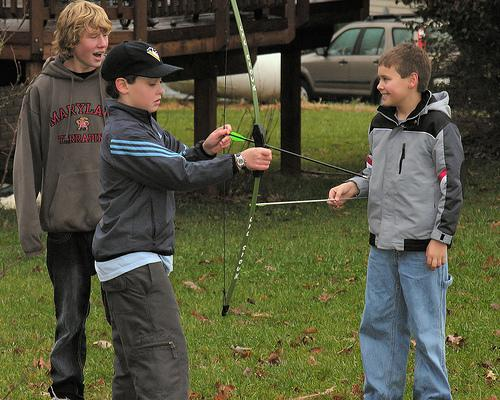person: (93, 37, 272, 400)
